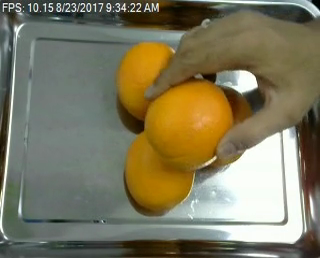Orange: (126, 129, 196, 211)
